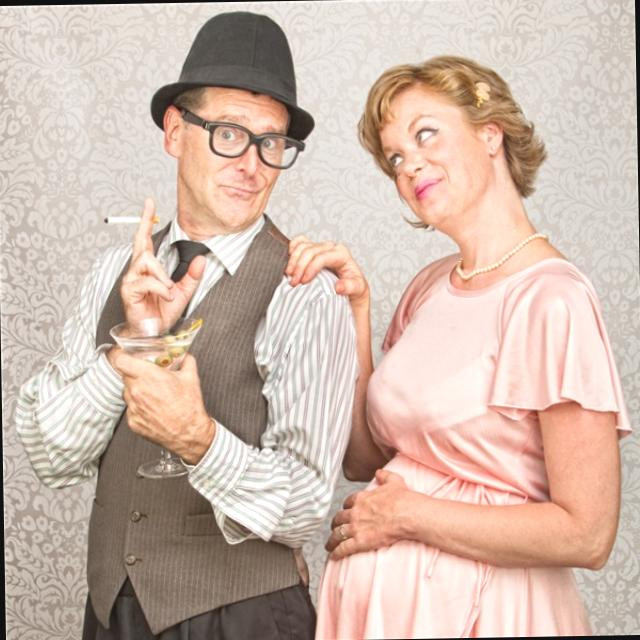cigarette: (104, 214, 146, 228)
